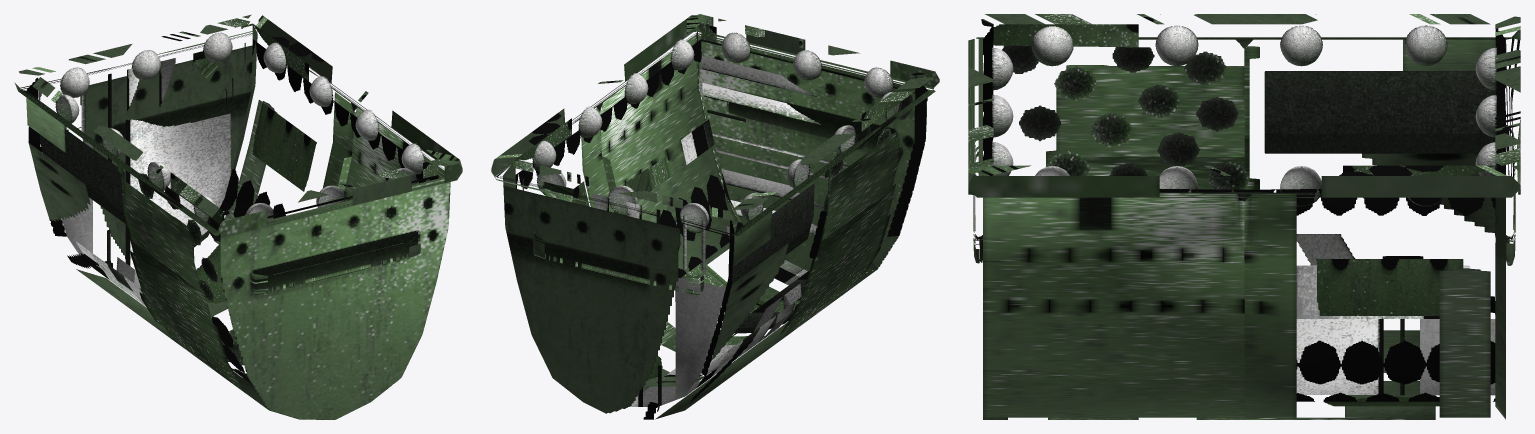
Rendered from cart_tank.fbx.
The picture shows the model from 3 angles, left to right: view 1: azimuth 30°, elevation 25°; view 2: azimuth 150°, elevation 25°; view 3: azimuth 270°, elevation 25°; orthographic projection. The views are drawn at different scales.
Parts seen in each view (by area): view 1: Body_001; view 2: Body_001; view 3: Body_001.
Boxes of the visible parts, left/top/right/bottom form: Body_001: left=14, top=14, right=462, bottom=419; Body_001: left=491, top=14, right=939, bottom=419; Body_001: left=968, top=14, right=1520, bottom=419.
Bounding box in the file's own units: 2.68 × 3.86 × 2.42.
